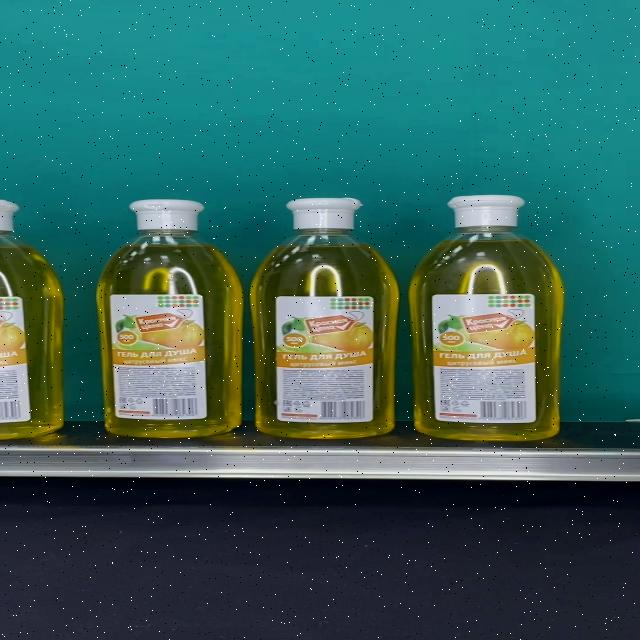Bottle: (410, 195, 565, 440), (251, 196, 399, 439), (96, 199, 242, 439)
Cap: (286, 196, 366, 228), (447, 196, 527, 228), (130, 199, 204, 231)
